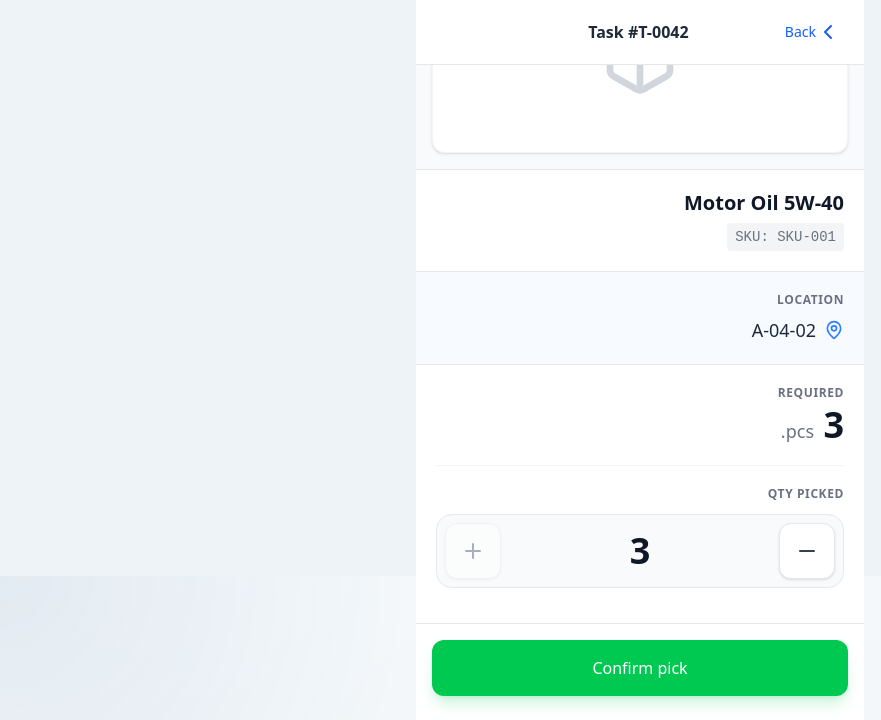
Test: PickStepPage › confirm button is disabled when qty is 0
(page scrolled)
Expected: the text "3" is shown, x1=630 y1=526 x2=650 y2=575
Click the button with test id "pick-step-qty-decrease". click: (807, 551)
box: x1=779 y1=523 x2=835 y2=579
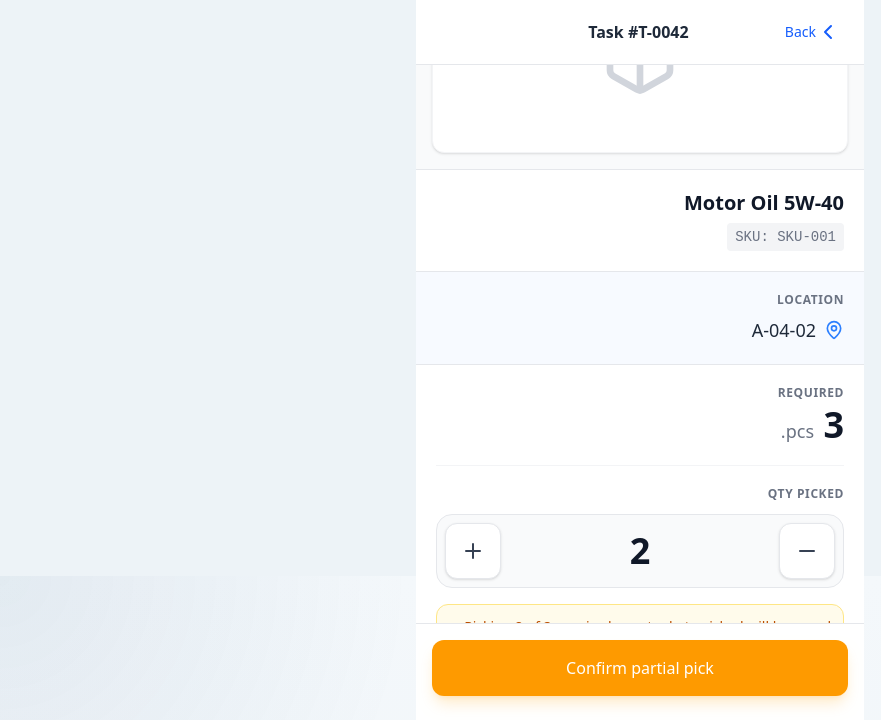
Click the button with test id "pick-step-qty-decrease". click: (807, 551)
box: x1=779 y1=523 x2=835 y2=579
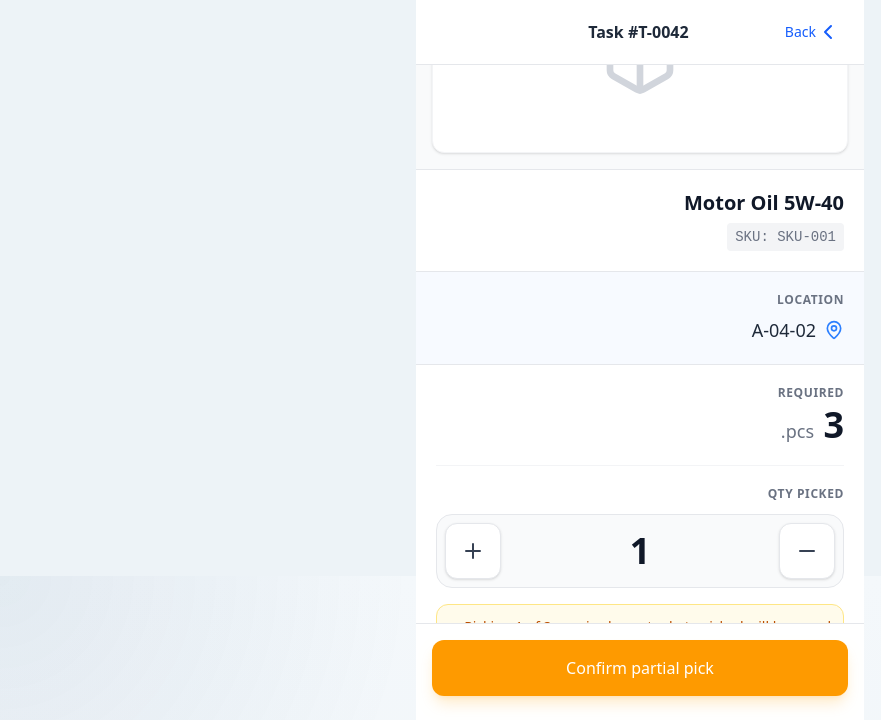
Click the button with test id "pick-step-qty-decrease". click: (807, 551)
box: x1=779 y1=523 x2=835 y2=579
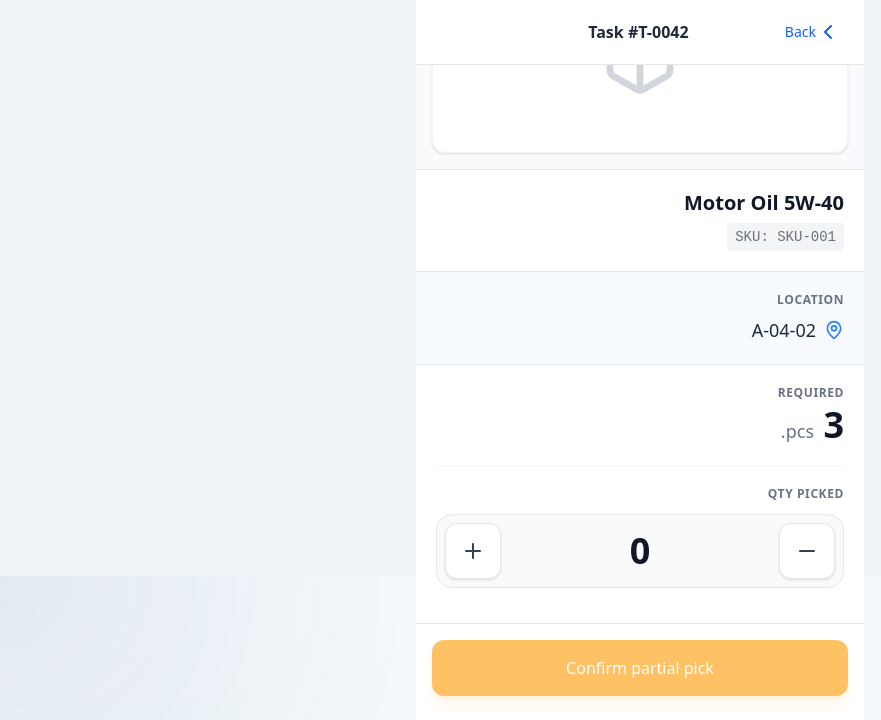
Expected: the button with test id "pick-step-confirm" is disabled, x1=432 y1=640 x2=848 y2=696
